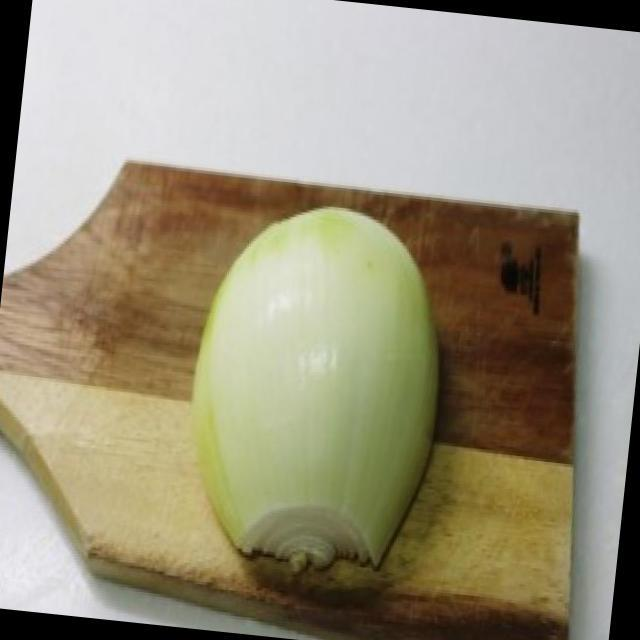Onion: (192, 202, 435, 571)
